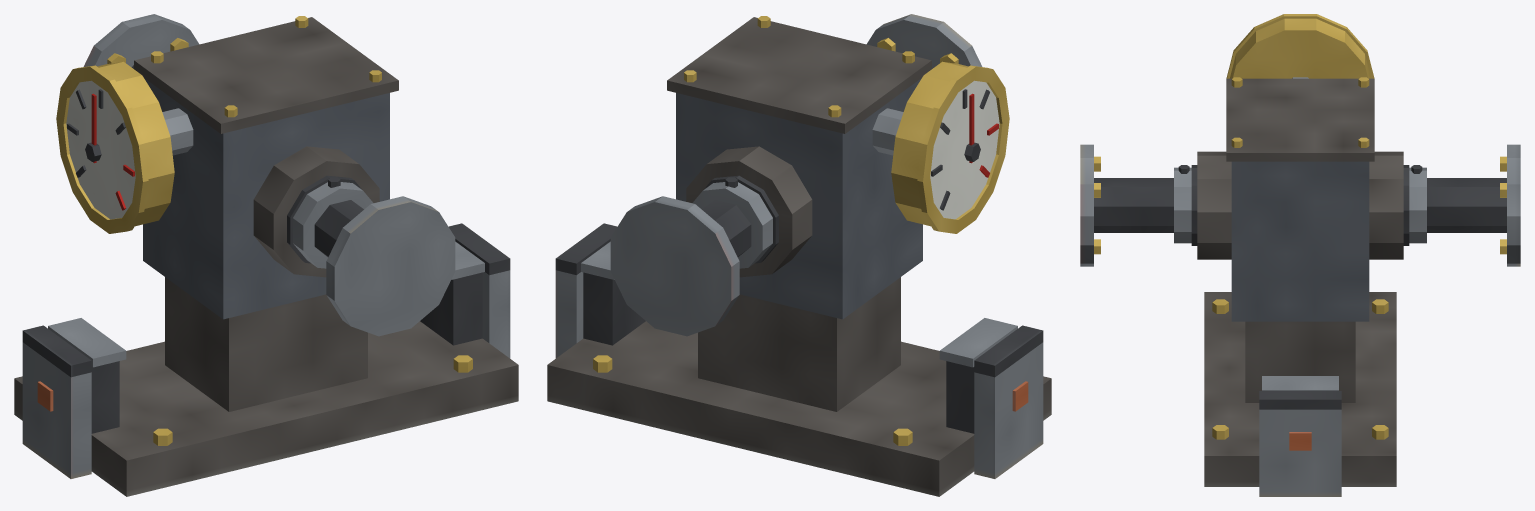
File: shafttacho.obj
3 views of the same model, side by side, from view 1: azimuth 30°, elevation 25°; view 2: azimuth 150°, elevation 25°; view 3: azimuth 270°, elevation 25° (orthographic). The views are drawn at different scales.
Visible parts, largest first — view 1: main, rotor, needle; view 2: main, rotor, needle; view 3: main, rotor.
Part boxes in pixels (left/top/right/bottom): main: left=14, top=16, right=518, bottom=496; rotor: left=83, top=14, right=455, bottom=336; needle: left=85, top=93, right=101, bottom=163; main: left=547, top=16, right=1051, bottom=496; rotor: left=610, top=14, right=982, bottom=336; needle: left=964, top=93, right=980, bottom=163; main: left=1191, top=14, right=1409, bottom=496; rotor: left=1080, top=144, right=1520, bottom=266.
Bounding box in the file's own units: 1 × 0.8051 × 1.
Materials: 1 (1 with a texture image).
